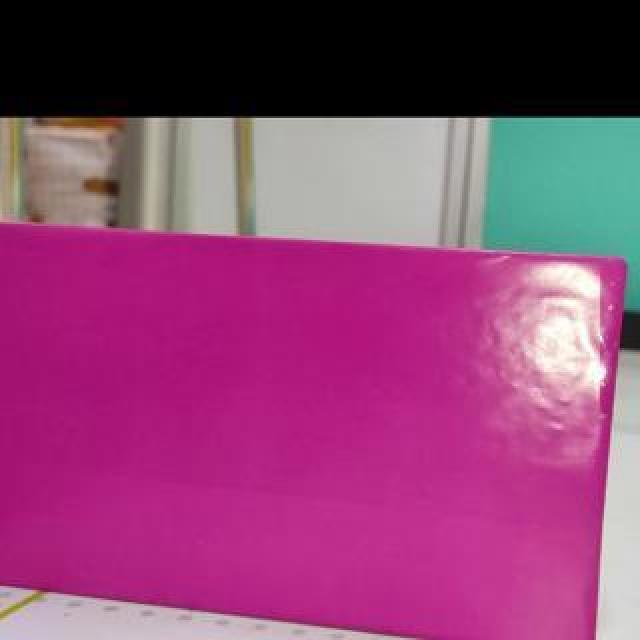xparking: (0, 224, 627, 635)
